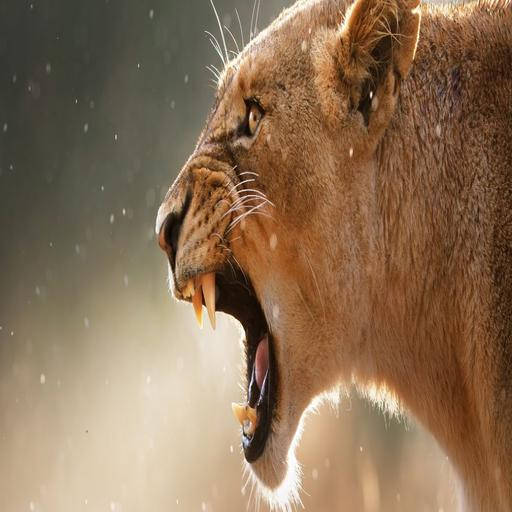Lion: (149, 0, 512, 512)
